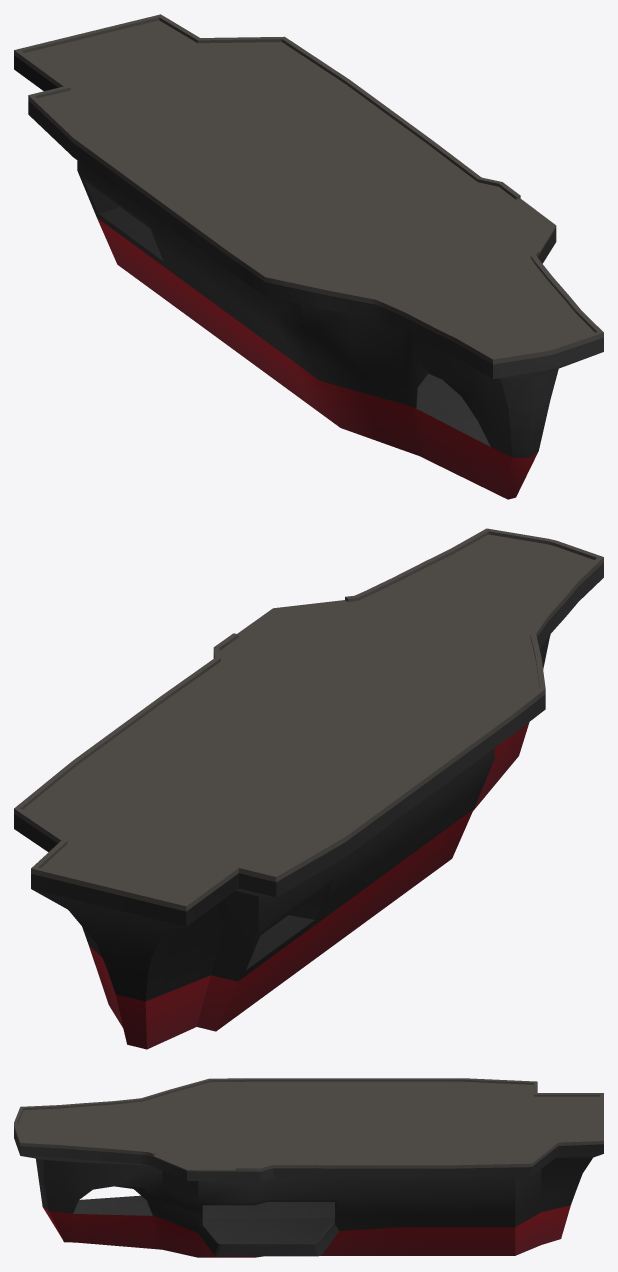
Rendered from portaviones_01.fbx.
The picture shows the model from 3 angles, top to bottom: view 1: azimuth 30°, elevation 25°; view 2: azimuth 150°, elevation 25°; view 3: azimuth 270°, elevation 25°; orthographic projection. The views are drawn at different scales.
Visible parts, largest first — view 1: PortaAviones.002; view 2: PortaAviones.002; view 3: PortaAviones.002.
Part boxes in pixels (x1,y1,x2,y2): PortaAviones.002: [14, 14, 603, 499]; PortaAviones.002: [14, 528, 603, 1049]; PortaAviones.002: [14, 1078, 603, 1257].
Size of the model in its own units: 6861 by 4157 by 18952.
